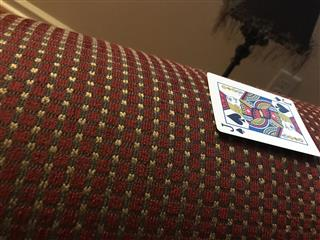JackOfSpades: (206, 71, 320, 156)
